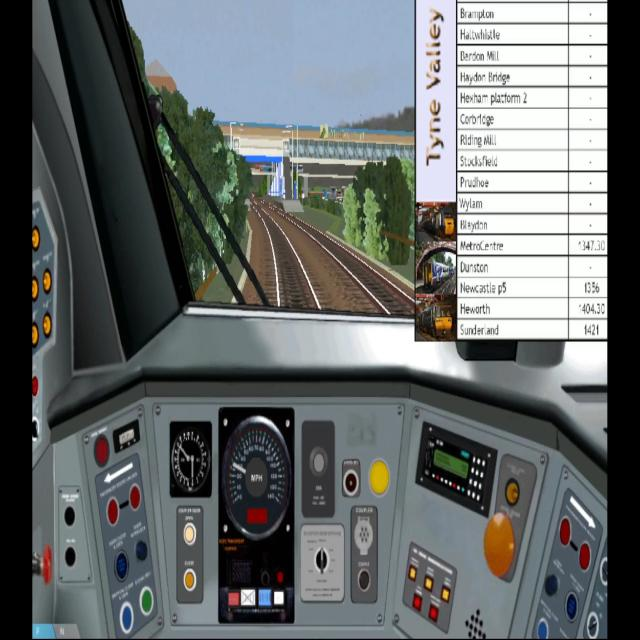Platform: (272, 196, 305, 217)
Spedometer: (217, 408, 298, 633)
Station: (213, 119, 416, 201)
Track: (268, 201, 416, 322), (250, 199, 330, 312)
